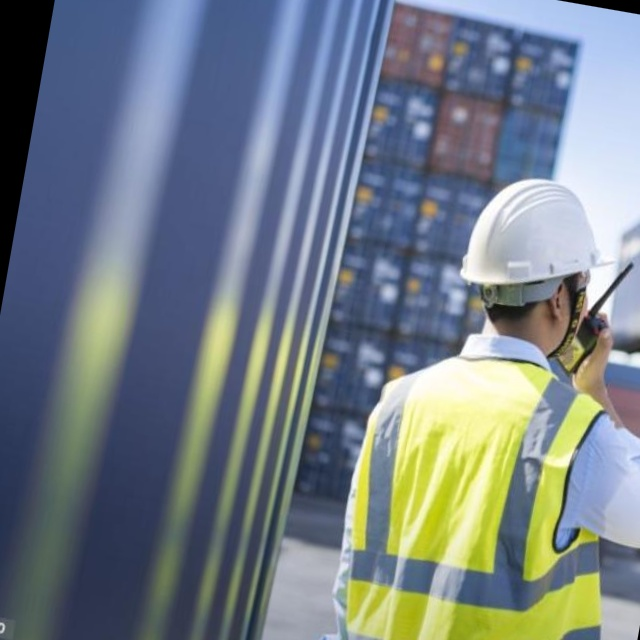Con_Casco: (451, 164, 622, 359)
Con_Chaleco: (323, 338, 640, 640)
